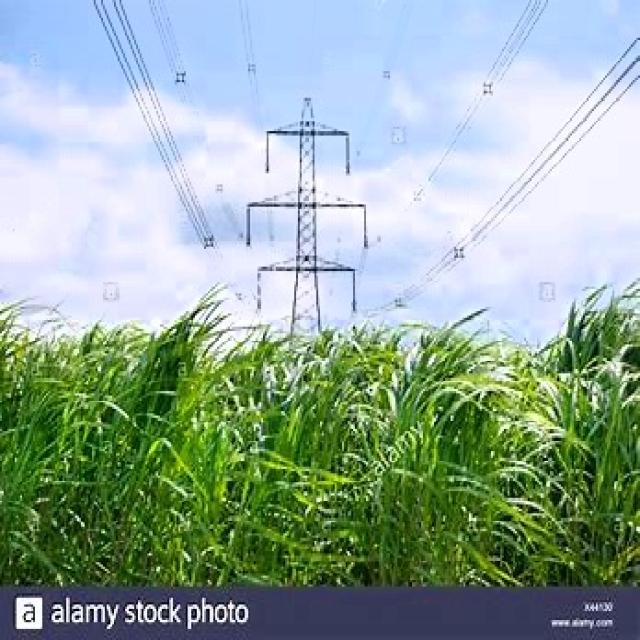utility poles: (234, 64, 379, 586)
